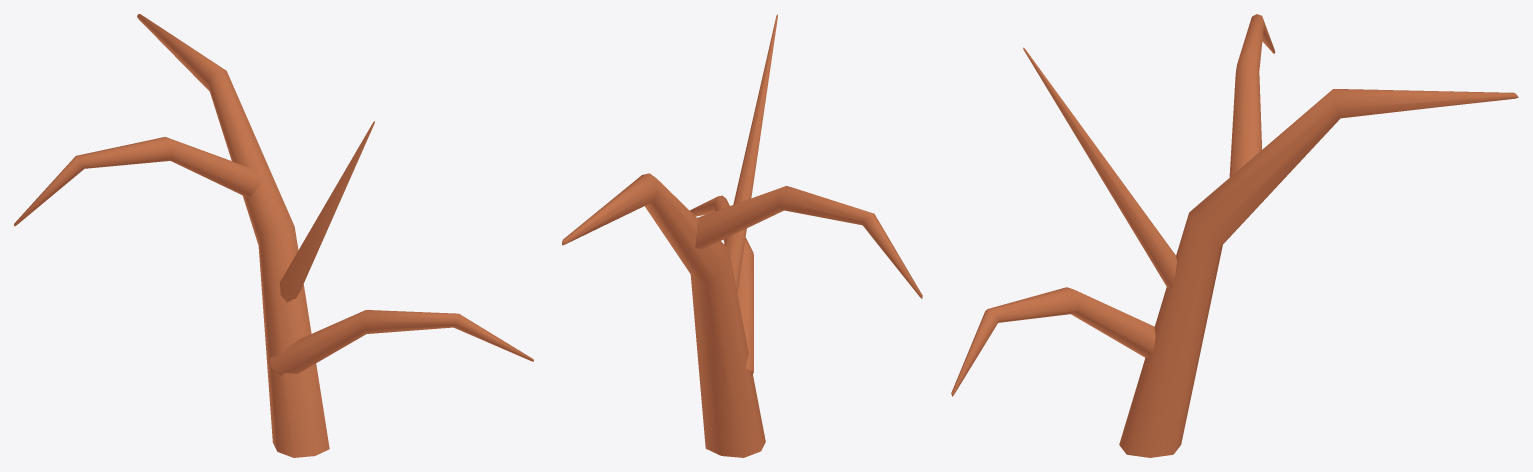
Rendered from twig_03.fbx.
The picture shows the model from 3 angles, left to right: view 1: azimuth 30°, elevation 25°; view 2: azimuth 150°, elevation 25°; view 3: azimuth 270°, elevation 25°; orthographic projection. The views are drawn at different scales.
Visible parts, largest first — view 1: twig_03; view 2: twig_03; view 3: twig_03.
Boxes of the visible parts, x1=… form: twig_03: x1=14, y1=14, x2=533, y2=457; twig_03: x1=562, y1=14, x2=922, y2=457; twig_03: x1=951, y1=14, x2=1518, y2=457.
Size of the model in its own units: 62.41 by 57.37 by 72.57.
